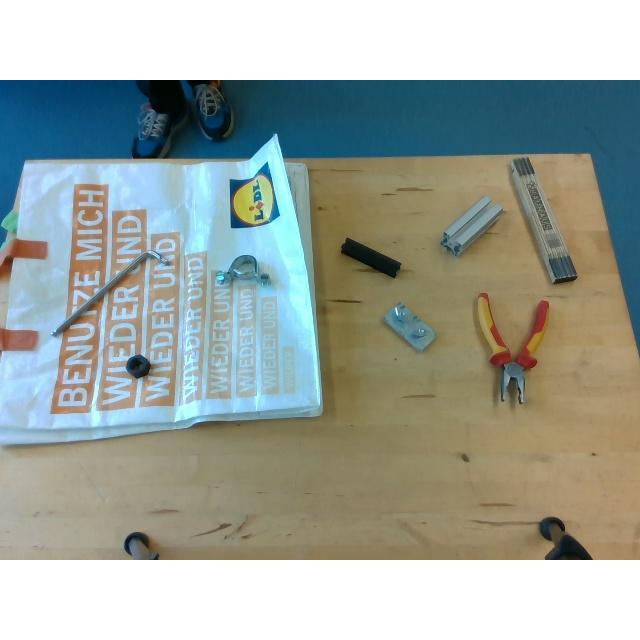AllenKey: (50, 250, 170, 336)
F20_20_B: (341, 237, 404, 279)
Housing: (212, 254, 268, 288)
M20: (126, 356, 150, 376)
S40_40_G: (440, 194, 502, 253)
